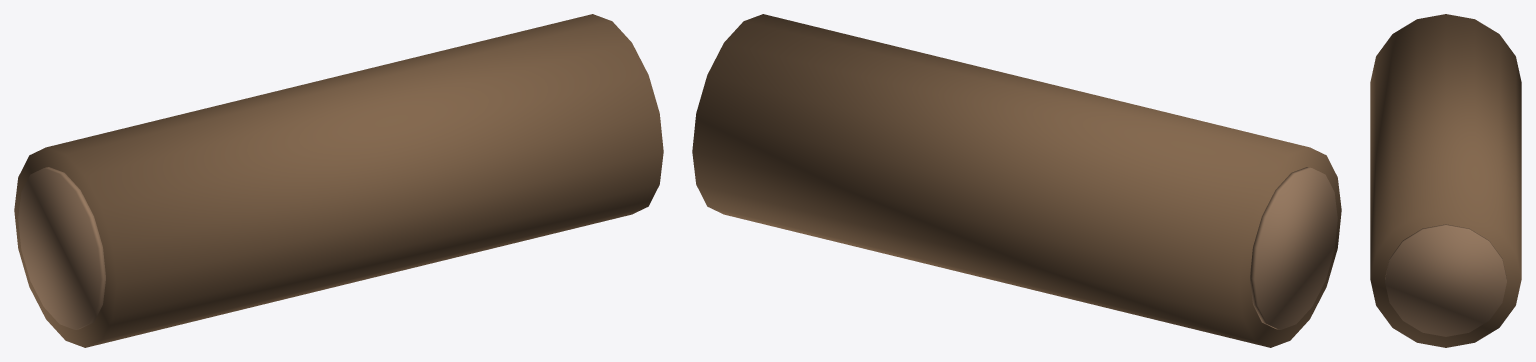
File: log.glb
3 views of the same model, side by side, from view 1: azimuth 30°, elevation 25°; view 2: azimuth 150°, elevation 25°; view 3: azimuth 270°, elevation 25° (orthographic). The views are drawn at different scales.
Visible parts, largest first — view 1: body, rings; view 2: body, rings; view 3: body, rings.001.
Part boxes in pixels (x1,y1,x2,y2): body: (14, 14, 663, 347); rings: (18, 167, 105, 329); body: (692, 14, 1341, 347); rings: (1250, 167, 1337, 329); body: (1370, 14, 1521, 347); rings.001: (1385, 224, 1506, 336).
Bounding box in the file's own units: 1.64 × 0.52 × 0.52.
